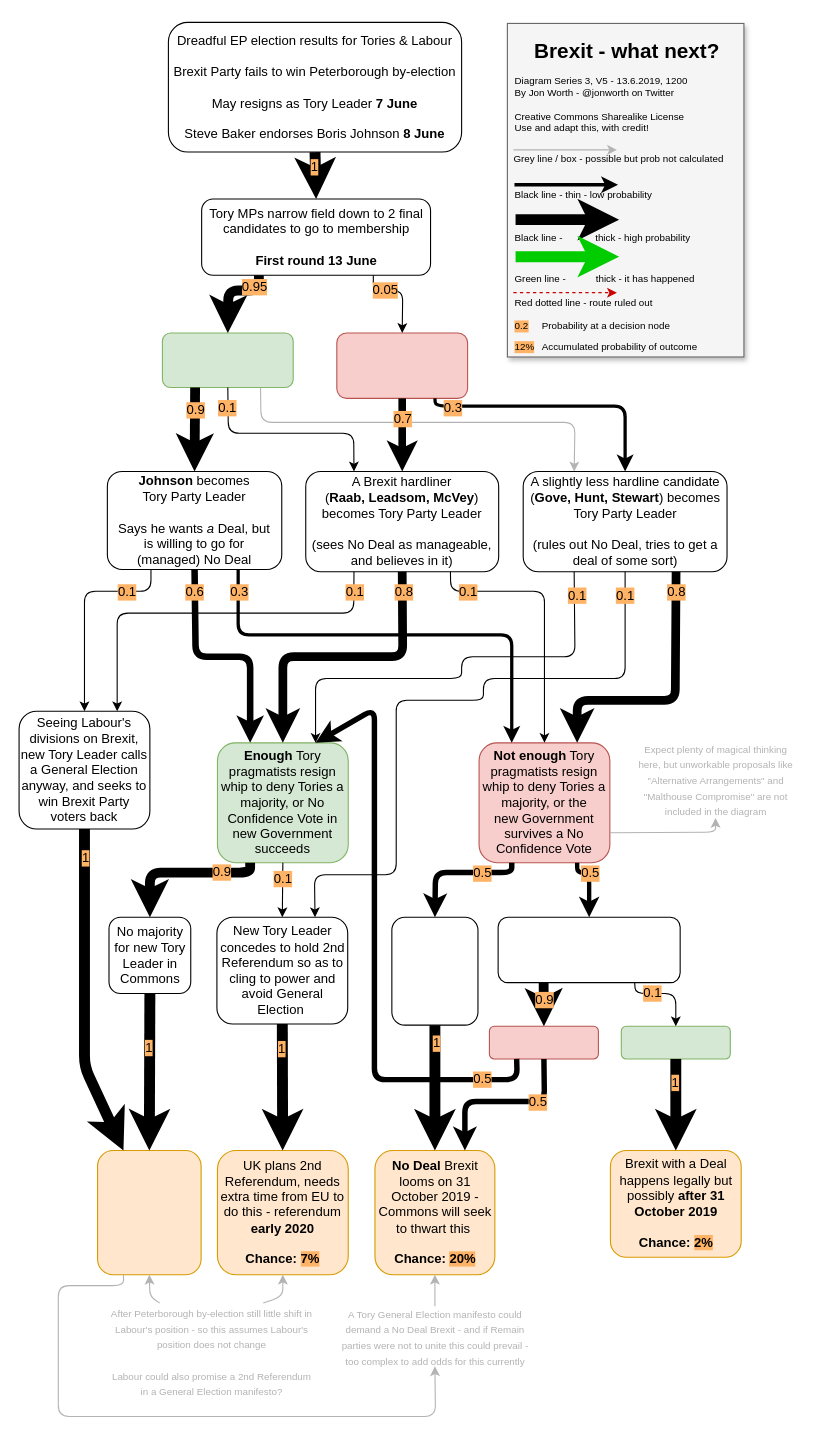
Image size: 819x1444. Some labels were removed from this diagram. Each missing label, with the centre of its shape:
Boris Johnson doesn't make it to final 2: [402,365]
Boris Johnson makes it to final 2: [227,359]
New Tory leader - safe in office for now - goes to 🇪🇺to demand changes to WA: [588,949]
New Tory leader sees no route other than No Deal Brexit: [434,970]
UK heads for a General Election sometime before 31 Oct 2019 Chance: 71%: [148,1212]
WA amended: [675,1042]
WA not amended: [543,1042]
